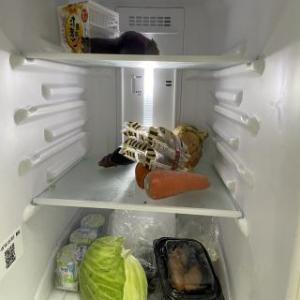cabbage: (78, 235, 148, 299)
carrot: (142, 170, 210, 200), (134, 164, 150, 189)
eggplant: (118, 30, 158, 54), (98, 146, 136, 168), (81, 36, 121, 53)
onion: (170, 125, 206, 169)
